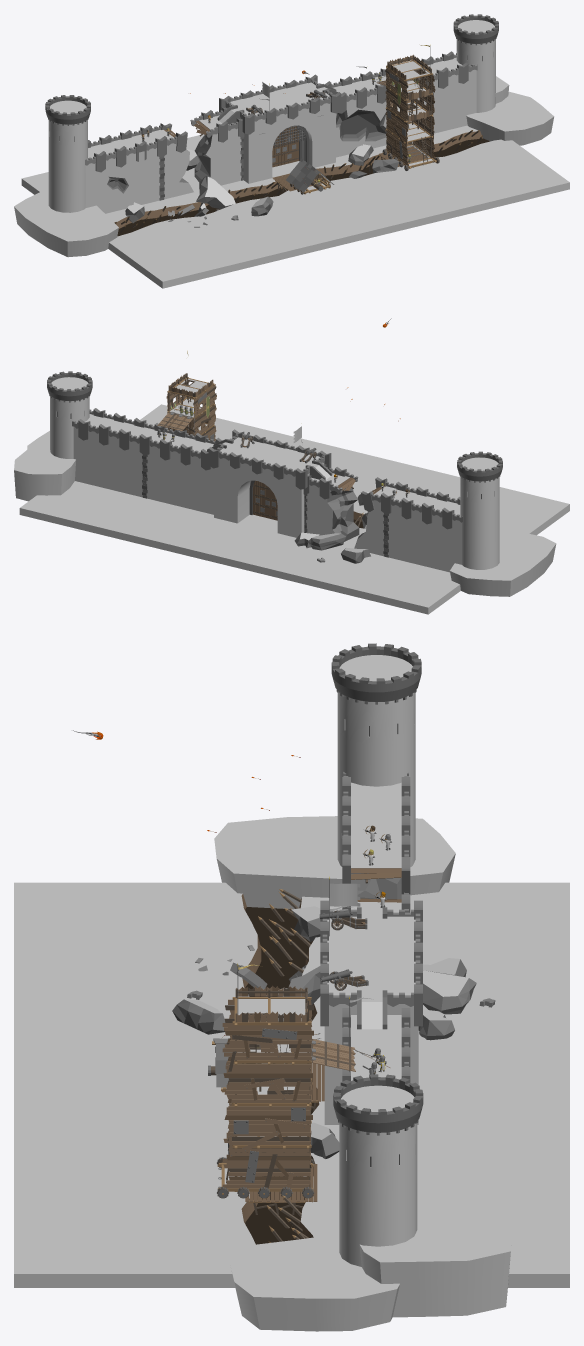
Rendered from Scena_03.fbx.
3 renders of one model, top to bottom at view 1: azimuth 30°, elevation 25°; view 2: azimuth 150°, elevation 25°; view 3: azimuth 270°, elevation 25°, orthographic. The views are drawn at different scales.
Parts seen in each view (by area): view 1: polySurface313, pCube2460, pCube429, pCube4236, group162_pCube975, pCube4286, pCube1367, pCube2499, pCube4238, pCube2501, pCube2500, pCube4235 (+15 smaller); view 2: polySurface313, pCube2460, pCube4235, group119_pCube834, pCube4236, group162_pCube975, pCube4286, pCube4256, pCube4257, pCube4254, pCube4393, pCube4258 (+13 smaller); view 3: pCube429, pCube1367, pCube2499, pCube4238, pCube2501, pCube2500, group175_pCube975, polySurface313, pCube4240, pCube4286, pCube4257, group162_pCube975 (+19 smaller).
Part boxes in pixels (box(x1,y1,x2,y2)): polySurface313: box(217, 74, 341, 183); pCube2460: box(85, 125, 166, 213); pCube429: box(382, 54, 439, 170); pCube4236: box(149, 107, 244, 199); group162_pCube975: box(45, 95, 90, 212); pCube4286: box(14, 190, 118, 257); pCube1367: box(279, 188, 406, 241); pCube2499: box(360, 168, 487, 221); pCube4238: box(442, 148, 569, 202); pCube2501: box(116, 228, 243, 281); pCube2500: box(198, 207, 324, 261); pCube4235: box(319, 68, 386, 157); polySurface313: box(207, 429, 332, 537); pCube2460: box(381, 481, 462, 572); pCube4235: box(139, 423, 221, 514); group119_pCube834: box(72, 408, 157, 497); pCube4236: box(303, 464, 400, 556); group162_pCube975: box(457, 451, 502, 569); pCube4286: box(450, 531, 556, 596); pCube4256: box(183, 517, 296, 567); pCube4257: box(102, 498, 220, 547); pCube4254: box(347, 557, 459, 607); pCube4393: box(19, 508, 428, 614); pCube4258: box(20, 481, 142, 527); pCube429: box(217, 986, 314, 1198); pCube1367: box(14, 1039, 199, 1117); pCube2499: box(14, 1117, 199, 1195); pCube4238: box(14, 1195, 199, 1273); pCube2501: box(14, 882, 199, 960); pCube2500: box(14, 961, 199, 1039); group175_pCube975: box(333, 1074, 423, 1266); polySurface313: box(320, 900, 422, 1124); pCube4240: box(229, 1234, 399, 1331); pCube4286: box(214, 816, 455, 909); pCube4257: box(417, 1117, 569, 1195); group162_pCube975: box(331, 643, 421, 866).
Bounding box in the file's own units: 113 × 37.13 × 55.12.
